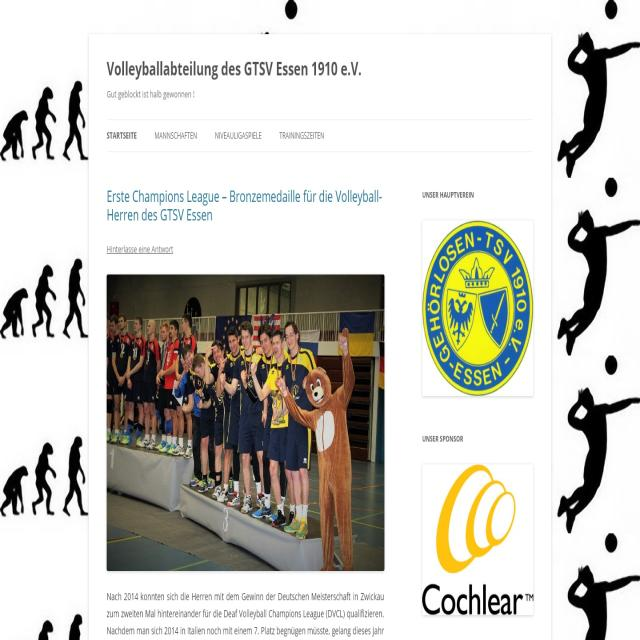button: (266, 117, 331, 153), (206, 115, 267, 149), (146, 116, 203, 151), (101, 120, 146, 149)
heading: (106, 182, 385, 227), (103, 48, 364, 81)
image: (0, 0, 640, 640), (106, 272, 386, 573), (421, 219, 533, 396), (422, 456, 534, 616)
link: (106, 242, 176, 256)
text: (104, 589, 386, 640), (106, 84, 198, 103)
